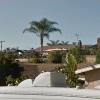Tree: (19, 12, 59, 51)
